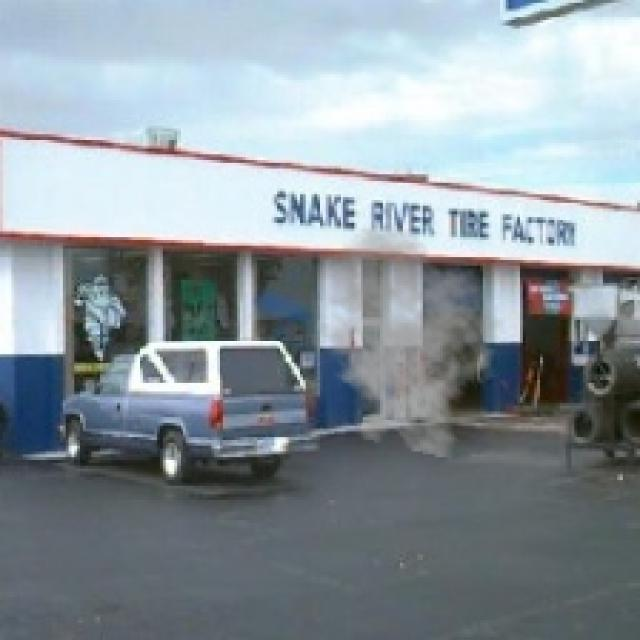smoke: (306, 223, 506, 460)
